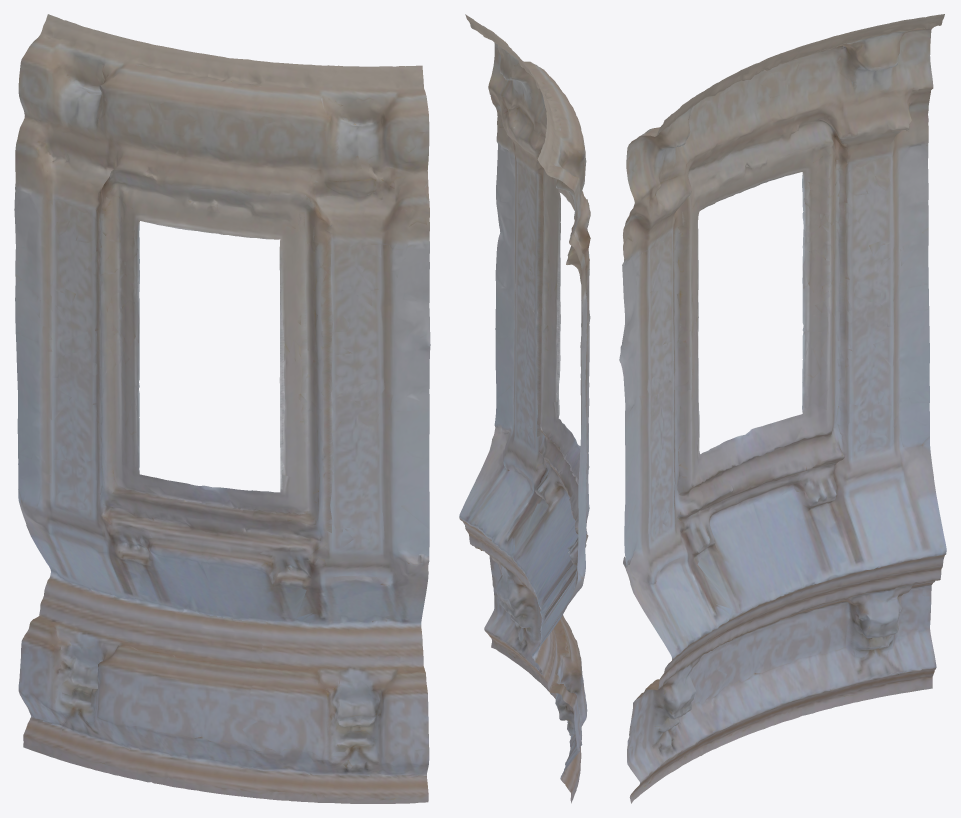
The model's file is dome2_windows.gltf.
The picture shows the model from 3 angles, left to right: view 1: azimuth 30°, elevation 25°; view 2: azimuth 150°, elevation 25°; view 3: azimuth 270°, elevation 25°; orthographic projection. The views are drawn at different scales.
Parts seen in each view (by area): view 1: Object_7; view 2: Object_7; view 3: Object_7.
Part boxes in pixels (<box>): Object_7: <box>14,14,430,803</box>; Object_7: <box>459,14,590,803</box>; Object_7: <box>619,14,946,803</box>.
Size of the model in its own units: 4.8 by 12.12 by 5.22.
3 materials, 3 textured.
